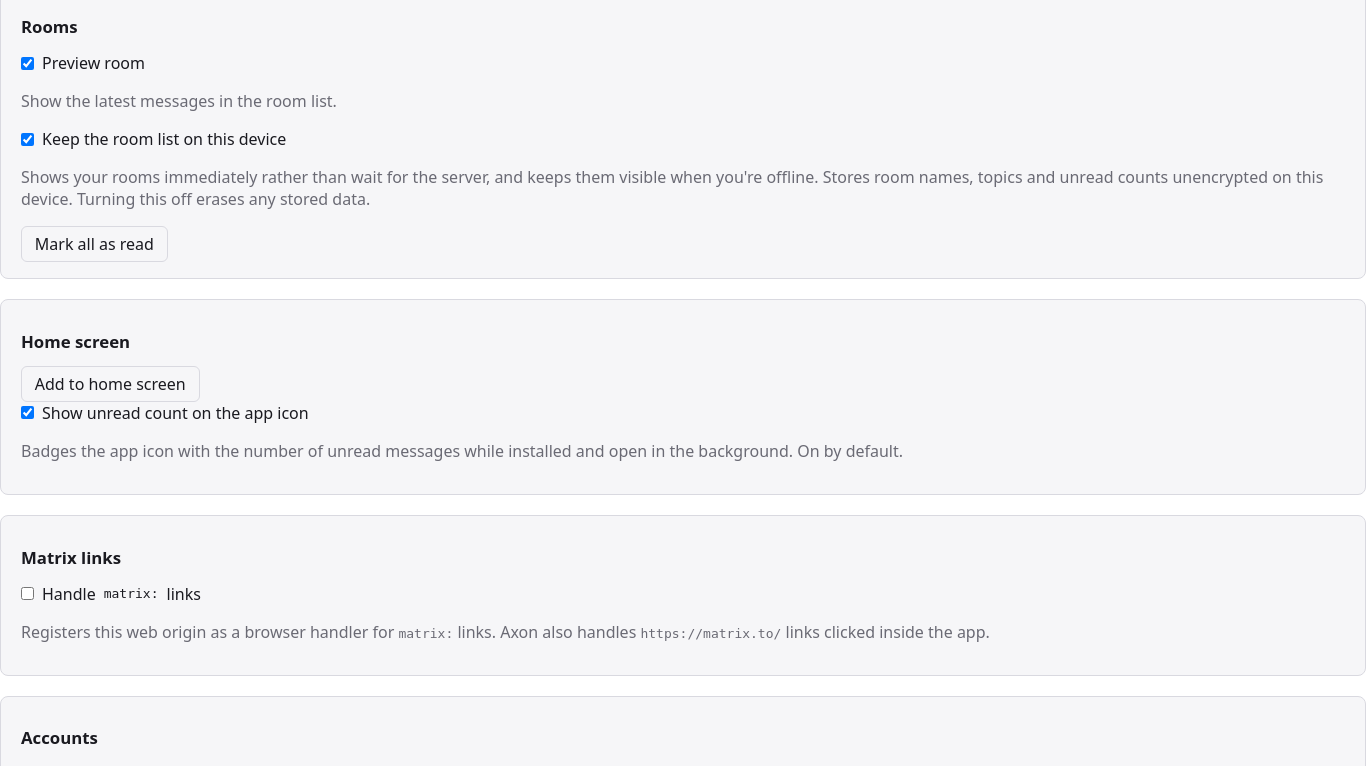
Test: SettingsPage › prompts Android users to install when the browser exposes the install event
(page scrolled)
Click the button "Add to home screen" at (110, 384), box 21,366 -> 200,402
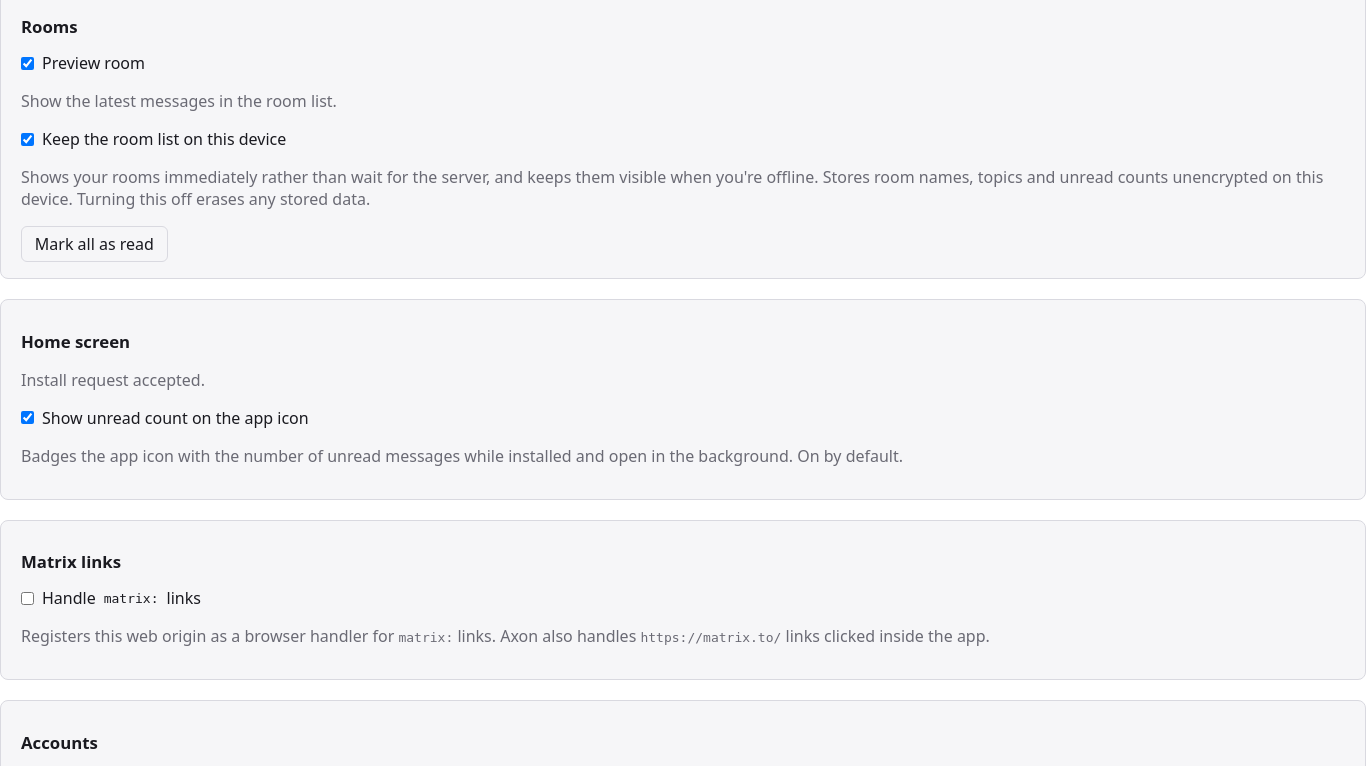
expect the text "Install request accepted." is shown: met, box 21,368 -> 205,390
